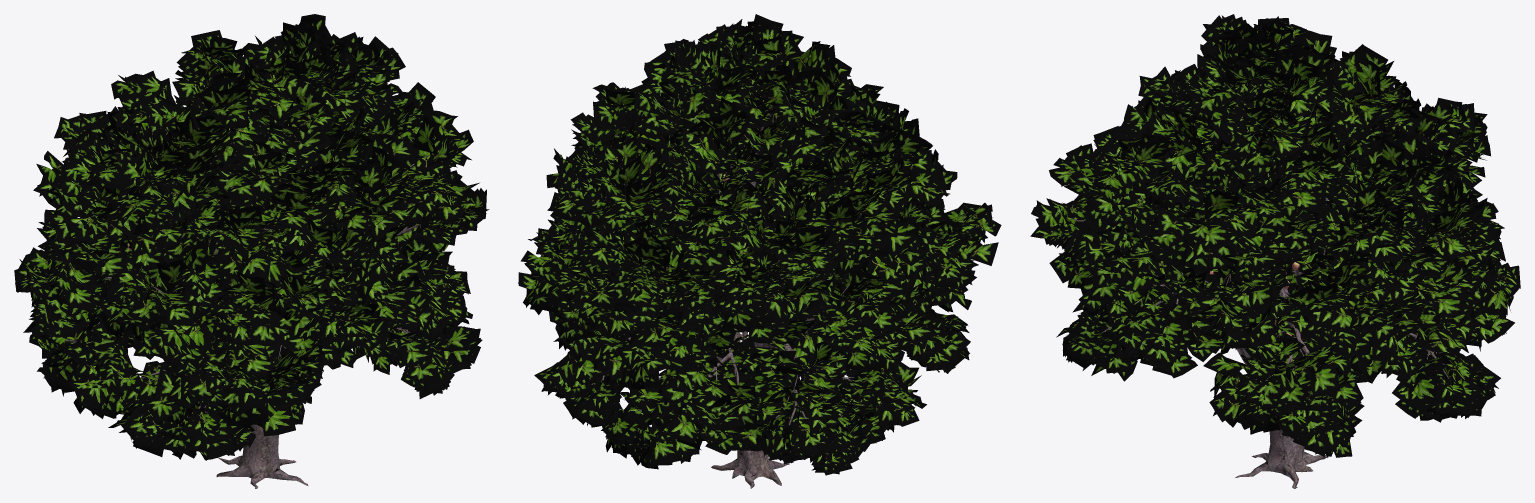
The model's file is mango.glb.
3 renders of one model, left to right at view 1: azimuth 30°, elevation 25°; view 2: azimuth 150°, elevation 25°; view 3: azimuth 270°, elevation 25°, orthographic. The views are drawn at different scales.
Visible parts, largest first — view 1: leaves_Material.001_0, tree_Material.002_0; view 2: leaves_Material.001_0, tree_Material.002_0; view 3: leaves_Material.001_0, tree_Material.002_0.
Part boxes in pixels (left/top/right/bottom): leaves_Material.001_0: left=14, top=14, right=489, bottom=460; tree_Material.002_0: left=49, top=66, right=449, bottom=488; leaves_Material.001_0: left=518, top=14, right=1001, bottom=475; tree_Material.002_0: left=602, top=68, right=905, bottom=488; leaves_Material.001_0: left=1030, top=14, right=1520, bottom=457; tree_Material.002_0: left=1070, top=92, right=1449, bottom=488.
Size of the model in its own units: 6.69 by 6.86 by 6.76.
3 materials, 3 textured.
